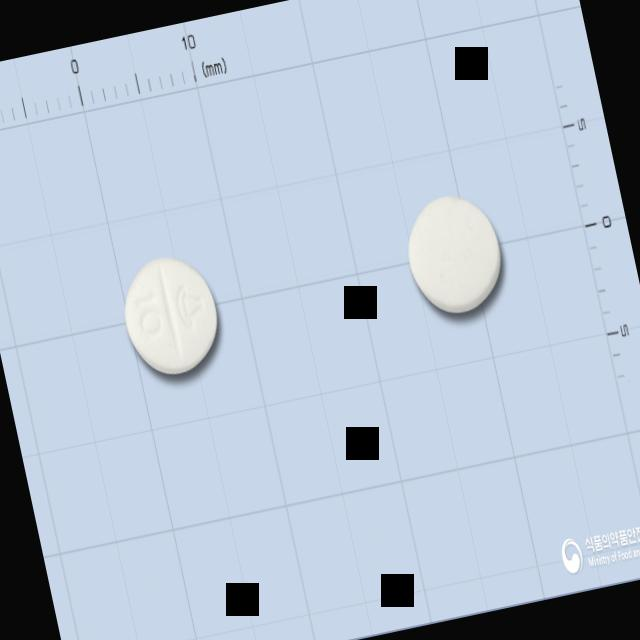CLARITYNE: (106, 236, 235, 395)
